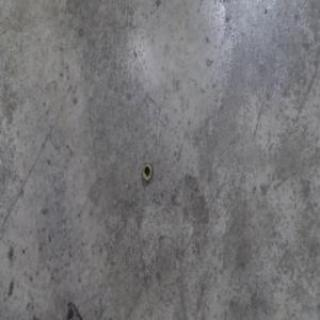Nuttrack_idkeyframe: (140, 160, 153, 182)
